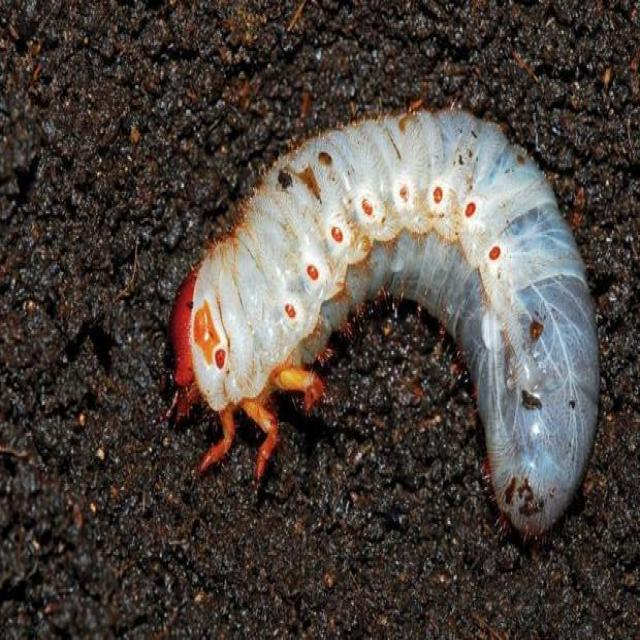Grub-Adult-: (137, 94, 608, 545)
